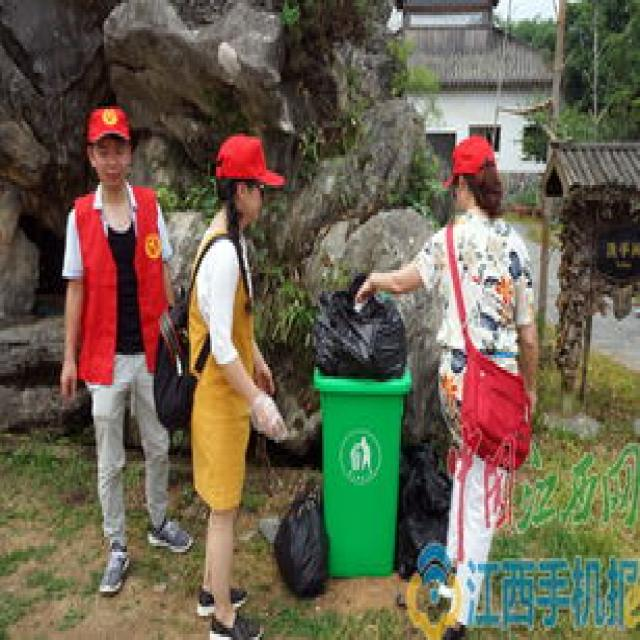garbage: (270, 482, 328, 594)
overflow: (312, 273, 409, 573)
